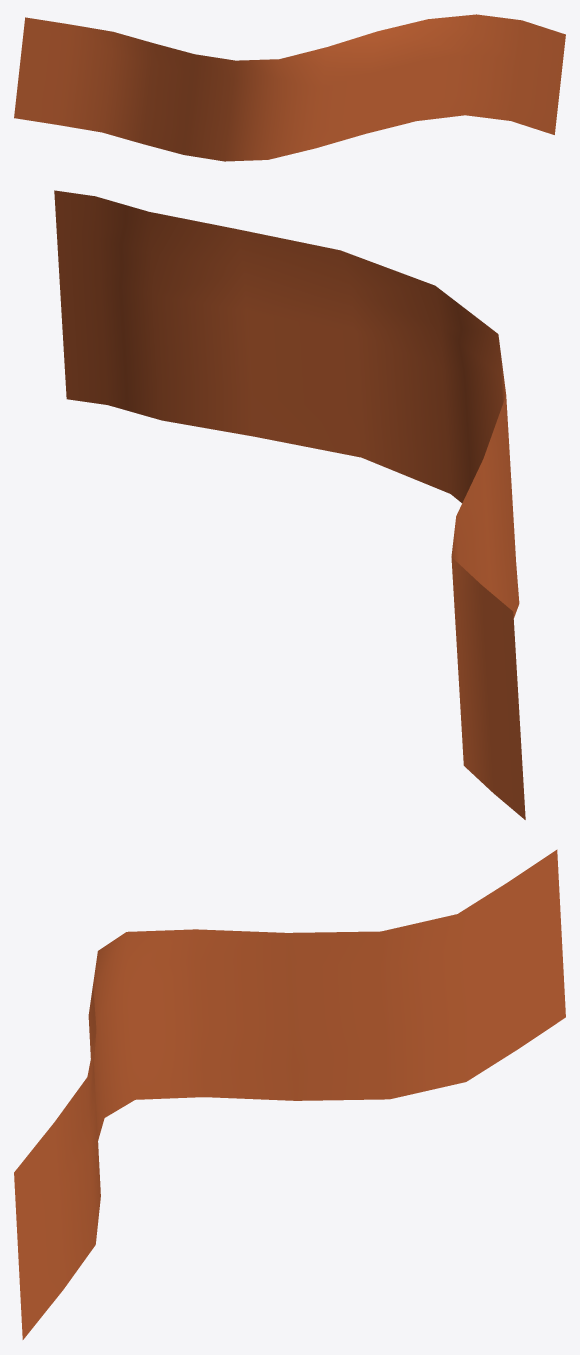
The model's file is cylinder.010_material.022_0_lev1.glb.
3 renders of one model, top to bottom at view 1: azimuth 30°, elevation 25°; view 2: azimuth 150°, elevation 25°; view 3: azimuth 270°, elevation 25°, orthographic. The views are drawn at different scales.
Parts seen in each view (by area): view 1: cylinder.010_material.022_0_lev1; view 2: cylinder.010_material.022_0_lev1; view 3: cylinder.010_material.022_0_lev1.
Boxes of the visible parts, x1,y1,x2,y2 form: cylinder.010_material.022_0_lev1: [14, 14, 565, 161]; cylinder.010_material.022_0_lev1: [54, 190, 525, 819]; cylinder.010_material.022_0_lev1: [14, 849, 565, 1339].
Size of the model in its own units: 0.1905 by 0.0641 by 0.1324.
